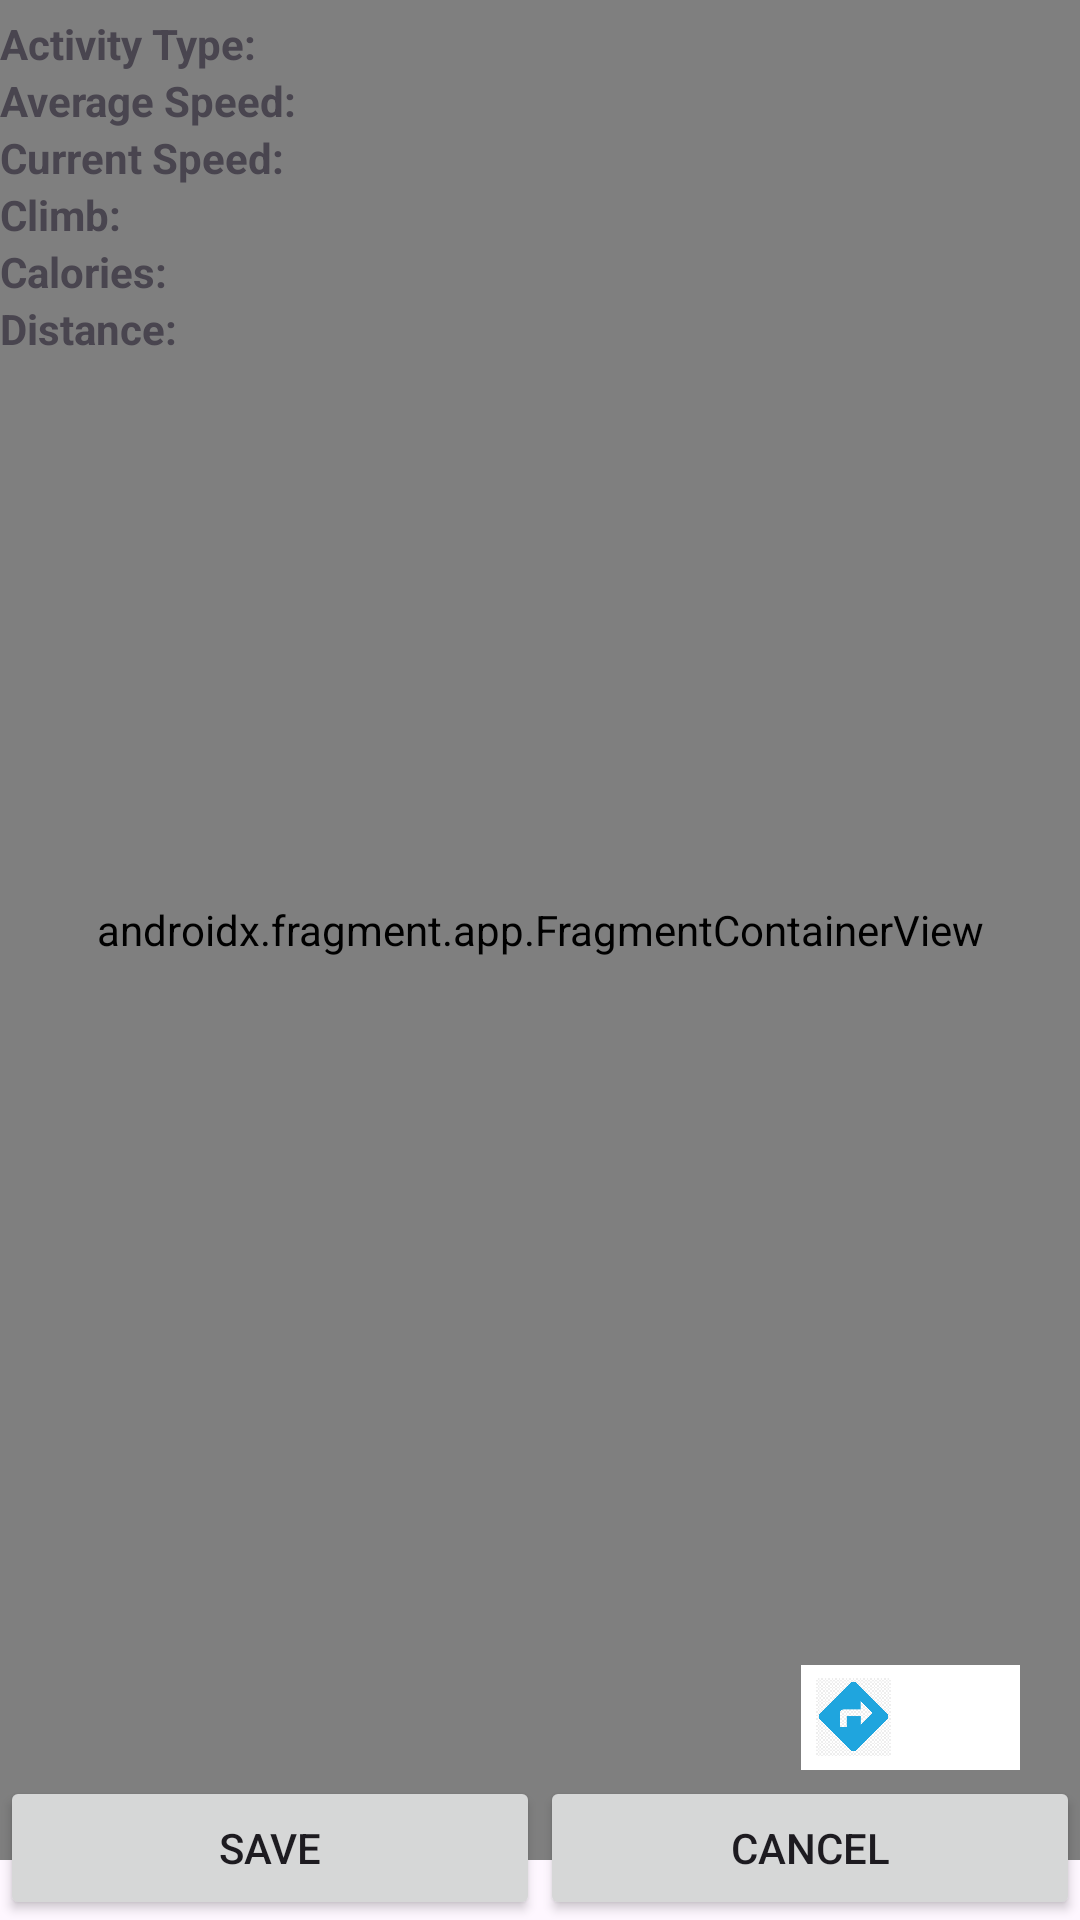

Named icons in this screenshot (1080w x 1920h) and their bounding boxes, (x1, y1, x2, y2):
navigation arroow: (801, 1665, 906, 1770)
